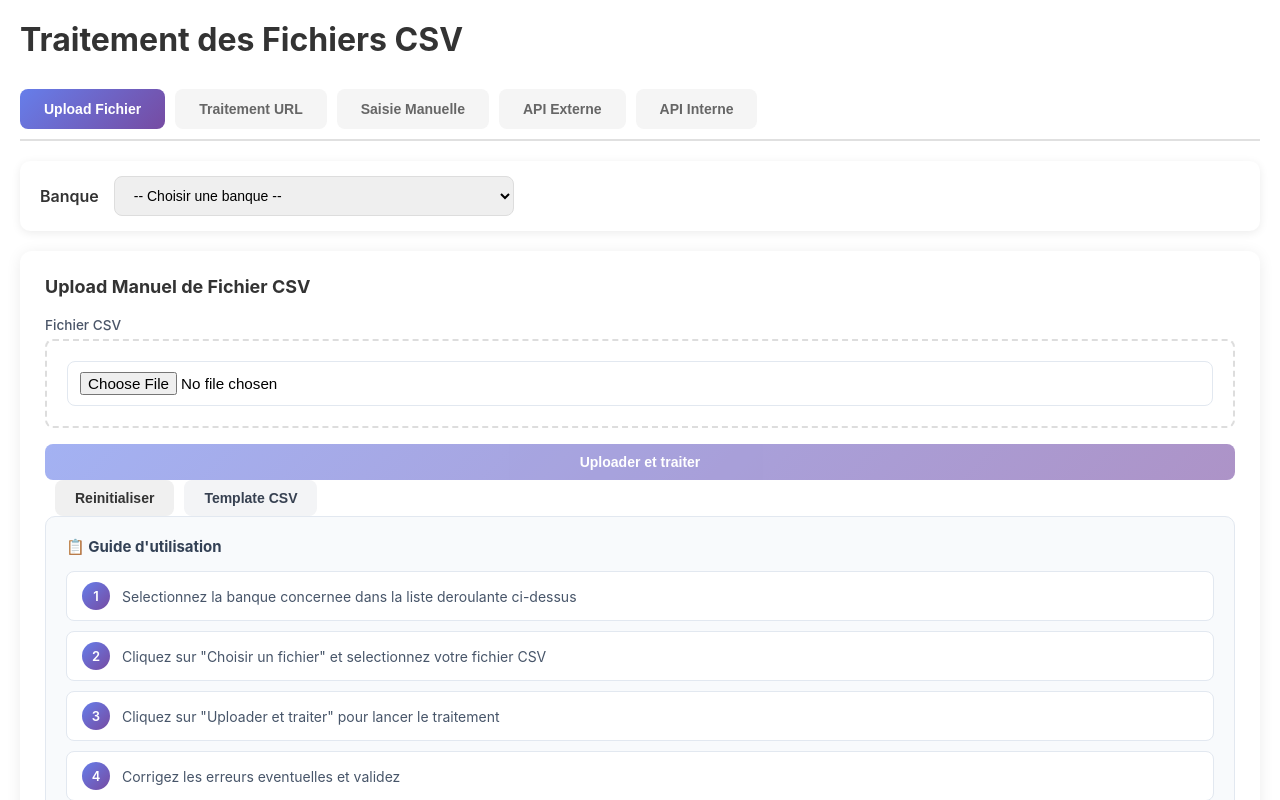
Test case: Processing › switches to API external tab
Expected: the heading "Traitement des Fichiers CSV" is shown, 20,20 -> 463,59
Click the button "API Externe": (562,109) 499,89 -> 626,129
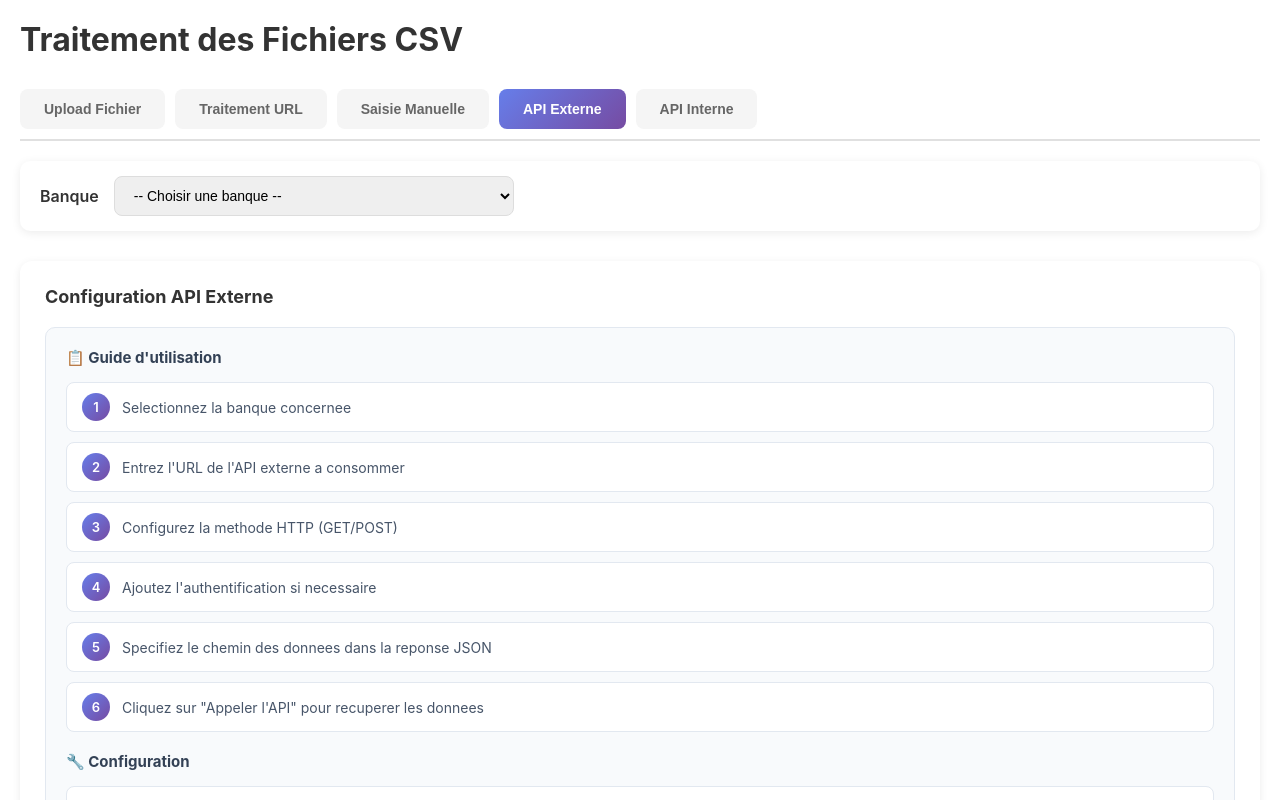
Result: the heading "Configuration API Externe" is shown at 45,286 -> 273,307
